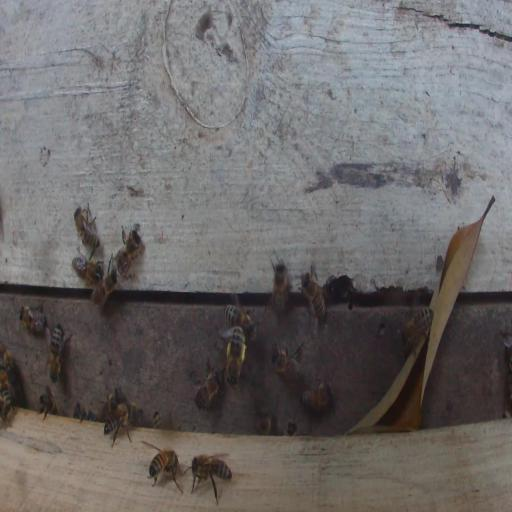bee: (300, 267, 327, 329), (401, 305, 434, 353), (2, 347, 26, 408), (147, 448, 181, 491), (265, 257, 288, 320), (115, 225, 142, 277), (46, 322, 67, 384), (74, 202, 99, 253), (194, 363, 221, 410), (271, 342, 303, 381), (104, 404, 132, 447), (91, 262, 117, 308), (300, 380, 332, 414), (226, 327, 245, 384), (224, 304, 256, 336), (71, 256, 105, 286), (192, 457, 230, 482), (19, 304, 45, 333), (39, 388, 59, 421), (1, 383, 15, 426), (75, 402, 101, 423), (254, 413, 272, 436), (129, 402, 143, 426), (152, 409, 163, 429), (286, 420, 298, 436)
